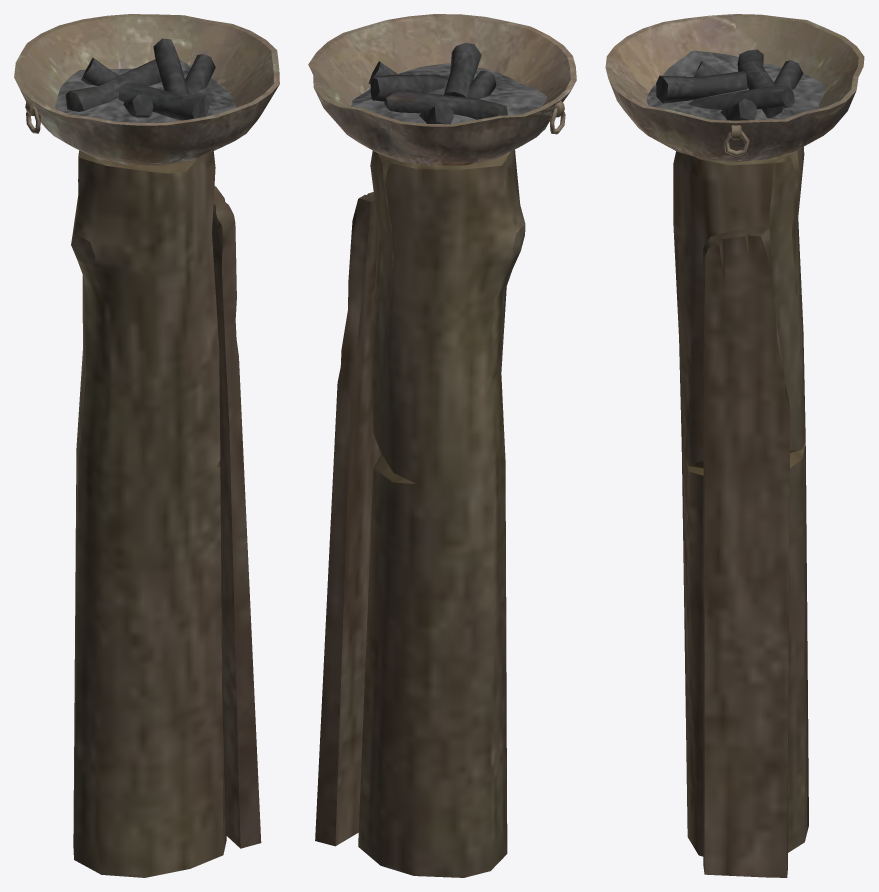
File: VIK_PRO_Brasero_Log_Small_01A_LOD0-transformed.glb
3 views of the same model, side by side, from view 1: azimuth 30°, elevation 25°; view 2: azimuth 150°, elevation 25°; view 3: azimuth 270°, elevation 25° (orthographic). The views are drawn at different scales.
Parts seen in each view (by area): view 1: default; view 2: default; view 3: default.
Boxes of the visible parts, x1=… form: default: x1=14, y1=14, x2=279, y2=877; default: x1=308, y1=14, x2=576, y2=877; default: x1=605, y1=14, x2=864, y2=877.
Size of the model in its own units: 0.4197 by 1.31 by 0.4015.
3 materials, 3 textured.
